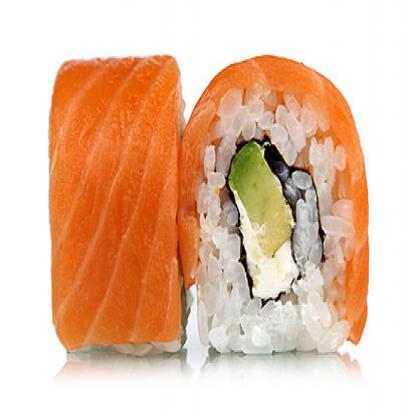philadelphia: (174, 50, 380, 367)
